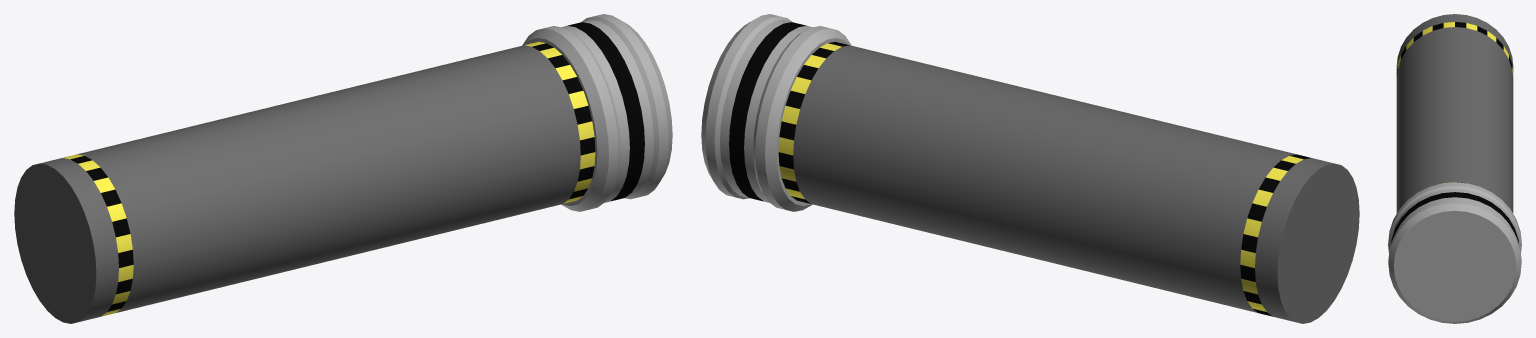
The model's file is pipe.fbx.
The picture shows the model from 3 angles, left to right: view 1: azimuth 30°, elevation 25°; view 2: azimuth 150°, elevation 25°; view 3: azimuth 270°, elevation 25°; orthographic projection. The views are drawn at different scales.
Parts seen in each view (by area): view 1: Cylinder; view 2: Cylinder; view 3: Cylinder.
Boxes of the visible parts, left/top/right/bottom form: Cylinder: left=14, top=14, right=672, bottom=323; Cylinder: left=701, top=14, right=1359, bottom=323; Cylinder: left=1388, top=14, right=1521, bottom=323.
Size of the model in its own units: 263 by 74.46 by 74.46.
